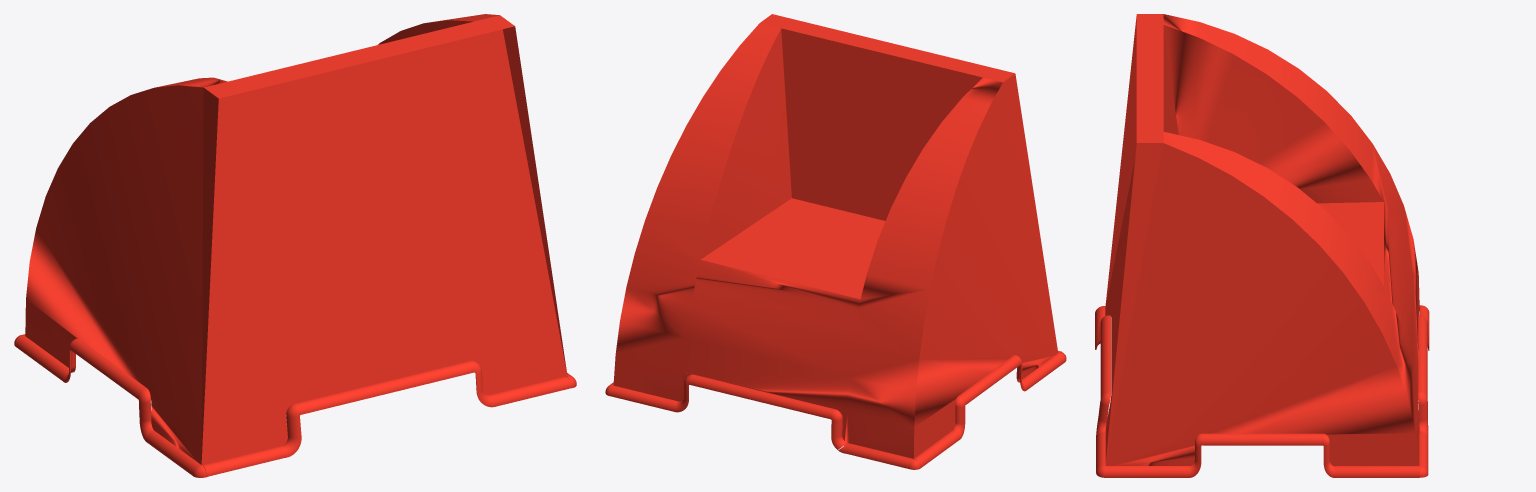
3 renders of one model, left to right at view 1: azimuth 30°, elevation 25°; view 2: azimuth 150°, elevation 25°; view 3: azimuth 270°, elevation 25°, orthographic. The views are drawn at different scales.
Parts seen in each view (by area): view 1: mesh1_mesh1-geometry, mesh6_mesh6-geometry, mesh7_mesh7-geometry; view 2: mesh1_mesh1-geometry, mesh8_mesh8-geometry, mesh7_mesh7-geometry; view 3: mesh1_mesh1-geometry, mesh9_mesh9-geometry, mesh6_mesh6-geometry, mesh8_mesh8-geometry.
Boxes of the visible parts, x1,y1,x2,y2 form: mesh1_mesh1-geometry: (25,14,567,464); mesh6_mesh6-geometry: (202,360,572,476); mesh7_mesh7-geometry: (16,336,200,475); mesh1_mesh1-geometry: (613,14,1058,470); mesh8_mesh8-geometry: (609,374,921,469); mesh7_mesh7-geometry: (914,353,1064,467); mesh1_mesh1-geometry: (1105,14,1419,466); mesh9_mesh9-geometry: (1105,433,1419,477); mesh6_mesh6-geometry: (1095,306,1110,473); mesh8_mesh8-geometry: (1418,305,1429,471).
Bounding box in the file's own units: 0.583 × 0.5145 × 0.6288.
